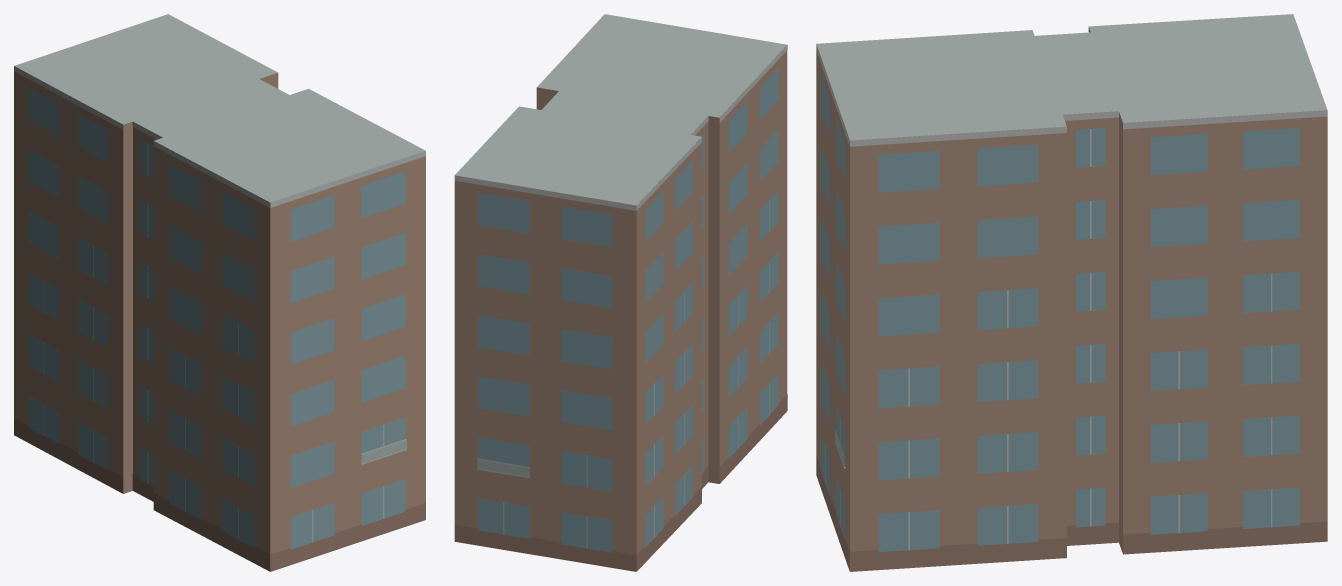
The model's file is survey-upis-32575361.glb.
3 renders of one model, left to right at view 1: azimuth 30°, elevation 25°; view 2: azimuth 150°, elevation 25°; view 3: azimuth 270°, elevation 25°, orthographic. The views are drawn at different scales.
Visible parts, largest first — view 1: survey-upis-32575361.tmp; view 2: survey-upis-32575361.tmp; view 3: survey-upis-32575361.tmp.
Boxes of the visible parts, box(x1,y1,x2,y2) form: survey-upis-32575361.tmp: box(14, 14, 425, 571); survey-upis-32575361.tmp: box(454, 14, 787, 571); survey-upis-32575361.tmp: box(816, 14, 1327, 571).
Bounding box in the file's own units: 10.58 × 16.8 × 18.05.
